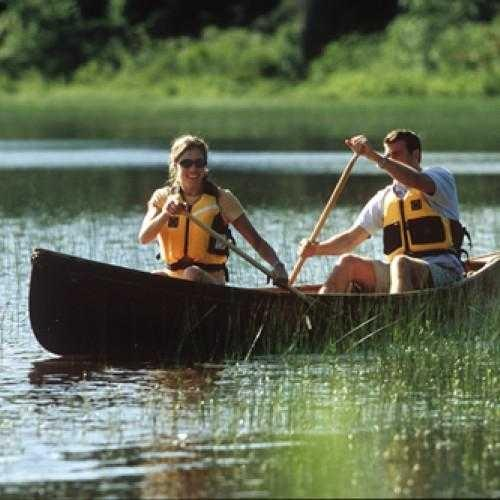kayak: (22, 245, 500, 365)
